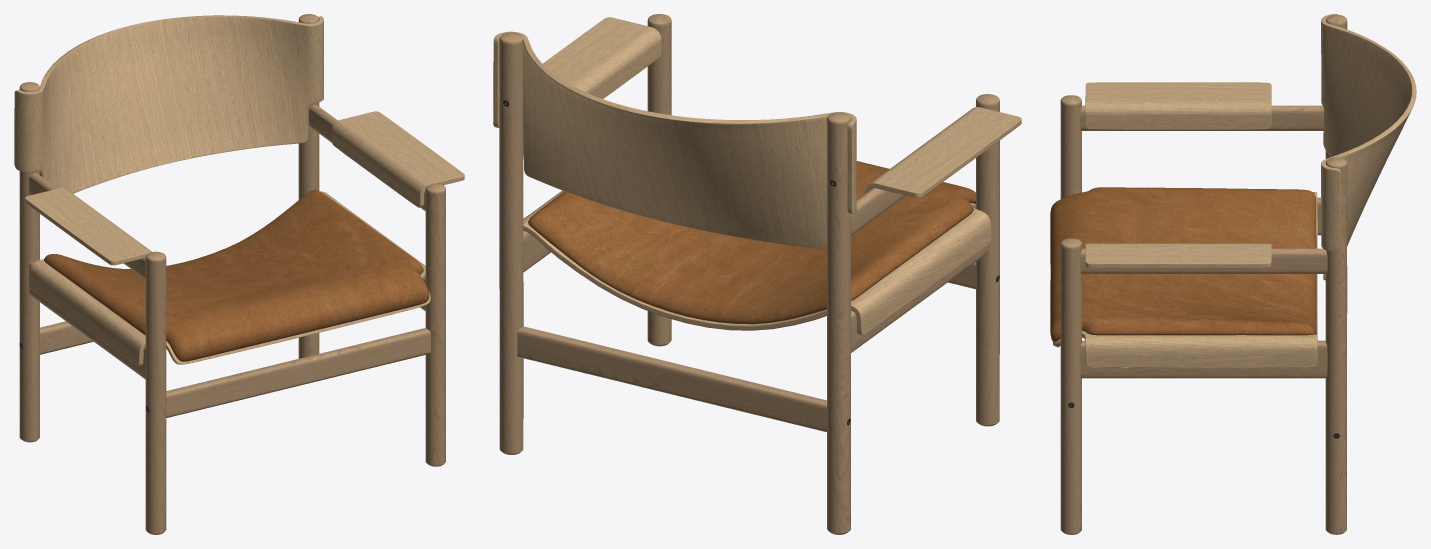
Rendered from soft-lounge-chair.glb.
The picture shows the model from 3 angles, left to right: view 1: azimuth 30°, elevation 25°; view 2: azimuth 150°, elevation 25°; view 3: azimuth 270°, elevation 25°; orthographic projection. The views are drawn at different scales.
Visible parts, largest first — view 1: Shell back, Leather seat, Front rail, Shell arm wrap left, Front leg right, Front leg left, Shell seat, Back leg right, Shell arm wrap right, Back leg left, Back rail, Side seat rail right (+2 smaller); view 2: Shell back, Leather seat, Back leg left, Back rail, Back leg right, Shell seat, Front leg right, Shell arm wrap left, Shell arm wrap right, Front leg left, Side seat rail right, Armrest right (+1 smaller); view 3: Leather seat, Shell back, Shell arm wrap right, Shell seat, Back leg left, Front leg left, Shell arm wrap left, Side seat rail left, Armrest left, Front leg right, Armrest right.
Part boxes in pixels (x1,y1,x2,y2): Shell back: (14, 15, 323, 193); Leather seat: (44, 190, 429, 361); Front rail: (166, 328, 430, 417); Shell arm wrap left: (331, 111, 464, 207); Front leg right: (145, 251, 166, 534); Front leg left: (425, 183, 445, 466); Shell seat: (28, 191, 430, 366); Back leg right: (19, 82, 39, 442); Shell arm wrap right: (25, 188, 151, 265); Back leg left: (298, 14, 319, 358); Back rail: (40, 321, 93, 354); Side seat rail right: (29, 262, 145, 379); Shell back: (493, 31, 856, 249); Leather seat: (528, 161, 975, 324); Back leg left: (499, 32, 523, 454); Back rail: (517, 326, 826, 432); Back leg right: (827, 112, 850, 534); Shell seat: (523, 190, 991, 335); Front leg right: (976, 94, 999, 426); Shell arm wrap left: (543, 17, 661, 98); Shell arm wrap right: (865, 107, 1021, 197); Front leg left: (647, 14, 671, 346); Side seat rail right: (851, 245, 987, 352); Armrest right: (851, 188, 905, 235); Leather seat: (1050, 187, 1316, 342); Shell back: (1321, 14, 1416, 280); Shell arm wrap right: (1085, 82, 1271, 129); Shell seat: (1053, 192, 1317, 367); Back leg left: (1325, 157, 1347, 534); Front leg left: (1060, 238, 1081, 534); Shell arm wrap left: (1085, 243, 1271, 268); Side seat rail left: (1080, 340, 1327, 378); Armrest left: (1080, 248, 1327, 273); Front leg right: (1060, 95, 1081, 198); Armrest right: (1080, 105, 1323, 130).
Bounding box in the file's own units: 0.7618 × 0.7266 × 0.6493.
Materials: 4 (3 with a texture image).
